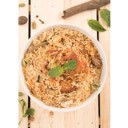briyani: (28, 36, 92, 103)
